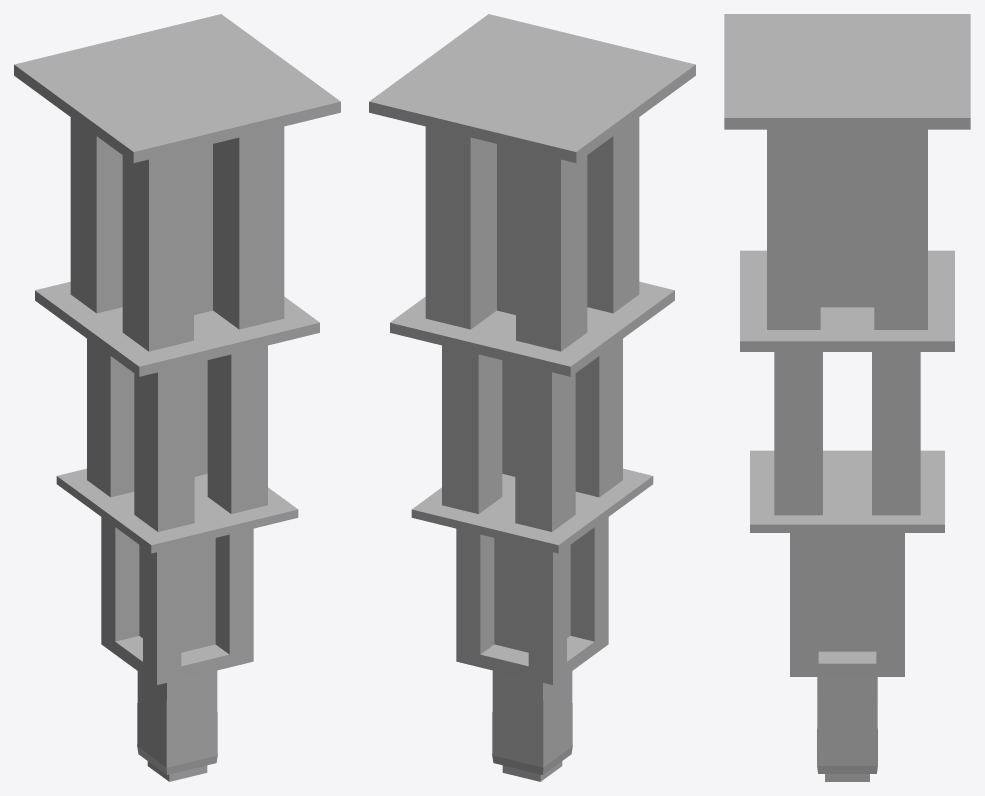
File: nier_filed.obj
3 views of the same model, side by side, from view 1: azimuth 30°, elevation 25°; view 2: azimuth 150°, elevation 25°; view 3: azimuth 270°, elevation 25° (orthographic). The views are drawn at different scales.
Parts seen in each view (by area): view 1: 立方体; view 2: 立方体; view 3: 立方体.
Boxes of the visible parts, bbox=[...] form: 立方体: bbox=[14, 14, 340, 781]; 立方体: bbox=[369, 14, 695, 781]; 立方体: bbox=[724, 14, 970, 781].
Size of the model in its own units: 11.82 by 37.4 by 11.82.
